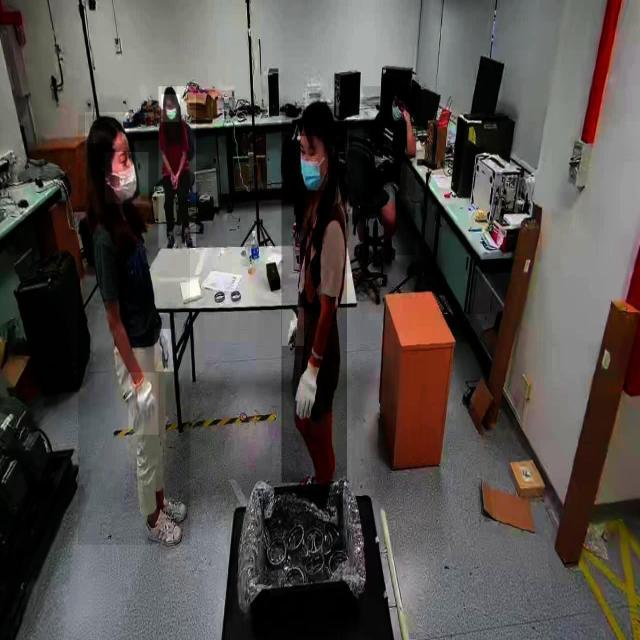face_mask: (105, 152, 149, 204), (296, 136, 328, 190), (162, 94, 180, 122), (388, 96, 402, 126)
hand_glove: (284, 356, 326, 434), (129, 372, 159, 436), (154, 329, 176, 372), (282, 308, 304, 347)
hand_noglove: (401, 106, 412, 122), (171, 172, 179, 190), (169, 170, 175, 186)
head_nohelmet: (85, 112, 129, 144), (297, 100, 337, 135), (391, 81, 410, 98), (162, 85, 178, 96)
person: (78, 114, 190, 546), (282, 106, 348, 483), (364, 86, 416, 256), (158, 86, 196, 248)
shoes: (144, 507, 187, 551), (154, 488, 188, 526)
